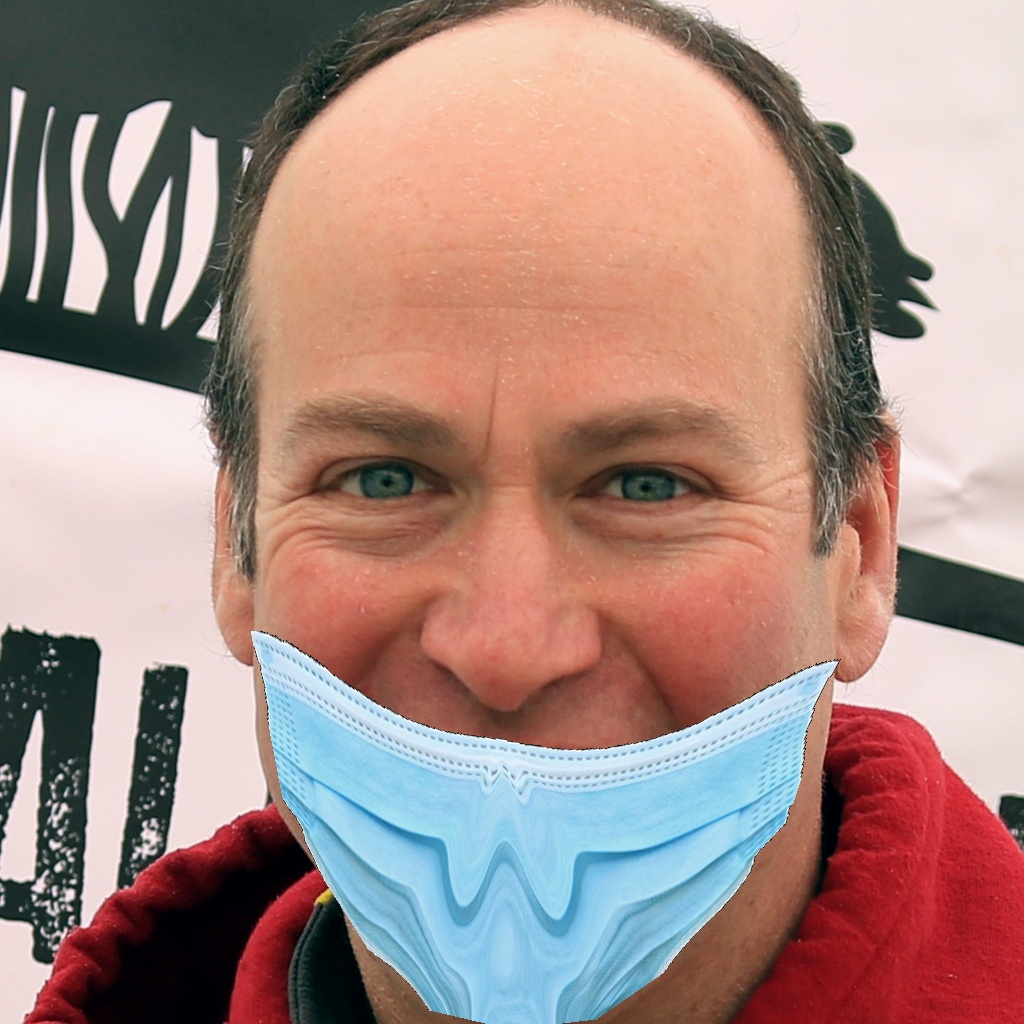mask_weared_incorrect: (213, 376, 857, 1024)
